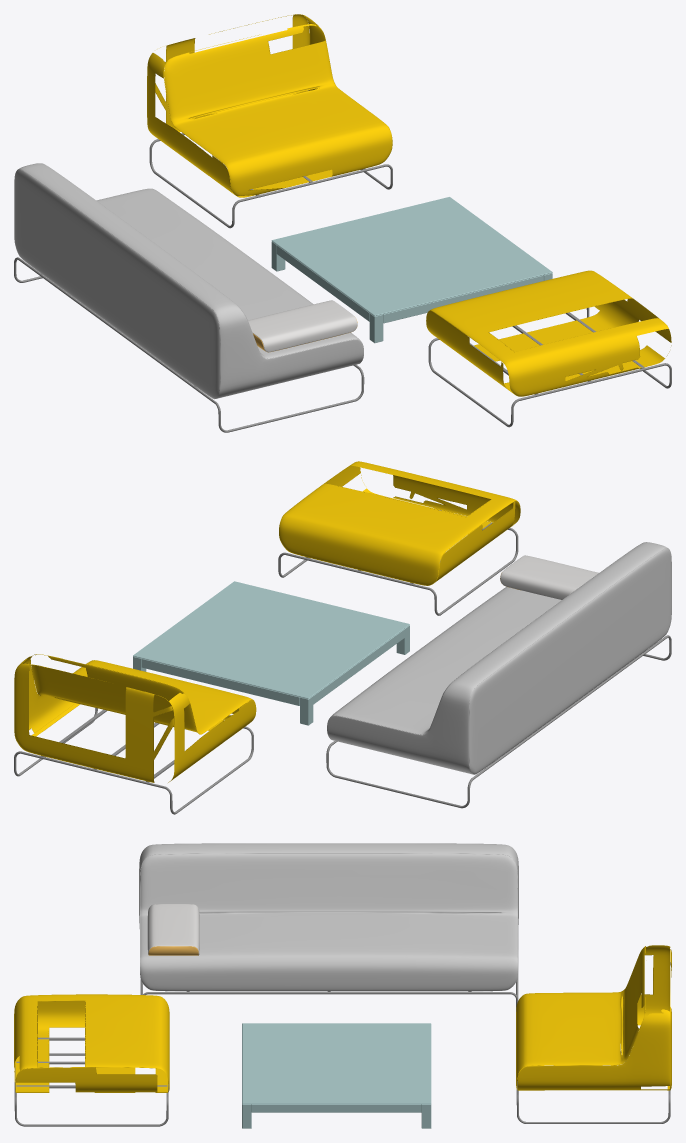
Rendered from chair.fbx.
3 views of the same model, one above another, from view 1: azimuth 30°, elevation 25°; view 2: azimuth 150°, elevation 25°; view 3: azimuth 270°, elevation 25° (orthographic). The views are drawn at different scales.
Parts seen in each view (by area): view 1: chair; view 2: chair; view 3: chair.
Boxes of the visible parts, <box> form: chair: <box>14,14,671,432</box>; chair: <box>14,461,671,814</box>; chair: <box>14,843,671,1128</box>.
Size of the model in its own units: 219 by 66.15 by 348.
